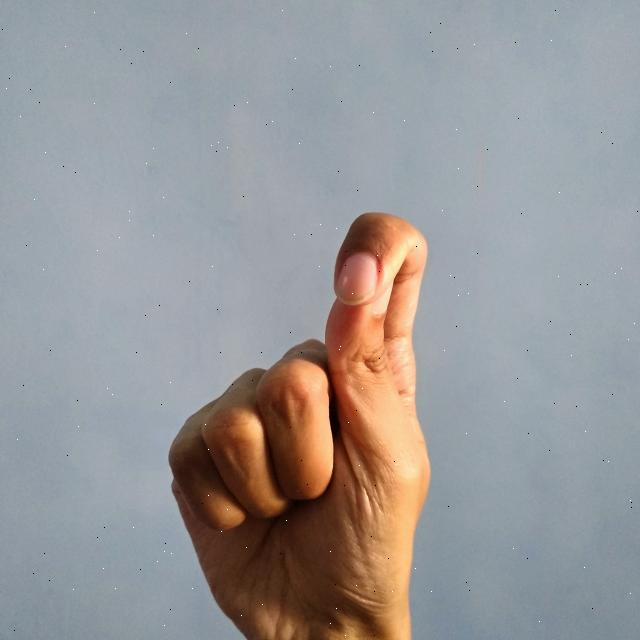T: (160, 203, 438, 640)
